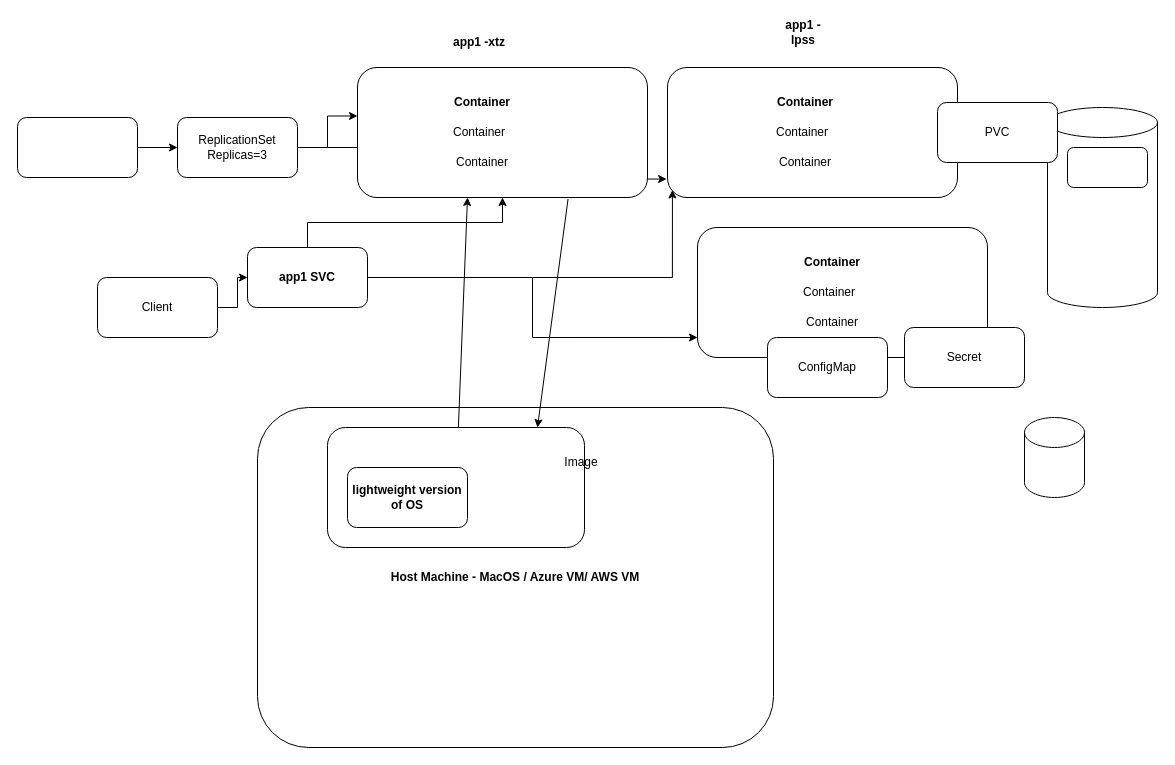
Some shapes in this 1175 by 765 pixel diagram are drawn without their labels. Each missing label, with the box of its shape:
App Code: (326, 426, 584, 548)
Blob Storage: (1046, 106, 1158, 308)
database: (1024, 416, 1084, 498)
Deployment Replication=1: (16, 116, 138, 178)
